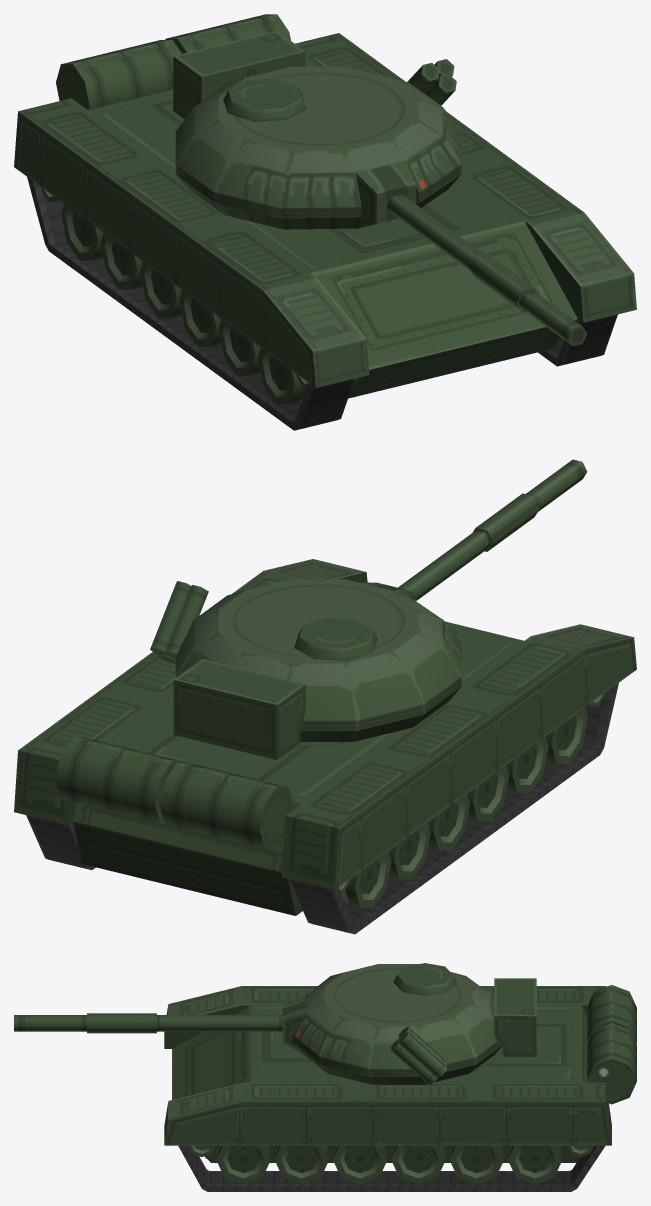
3 renders of one model, top to bottom at view 1: azimuth 30°, elevation 25°; view 2: azimuth 150°, elevation 25°; view 3: azimuth 270°, elevation 25°, orthographic. The views are drawn at different scales.
Parts seen in each view (by area): view 1: T72_001, T72_001_Cannon; view 2: T72_001, T72_001_Cannon; view 3: T72_001, T72_001_Cannon.
Boxes of the visible parts, box(x1,y1,x2,y2) form: T72_001: box(14, 14, 636, 430); T72_001_Cannon: box(173, 31, 586, 345); T72_001: box(14, 559, 636, 934); T72_001_Cannon: box(150, 459, 587, 759); T72_001: box(164, 985, 636, 1191); T72_001_Cannon: box(14, 963, 536, 1085).
Bounding box in the file's own units: 350 × 793 × 211.
